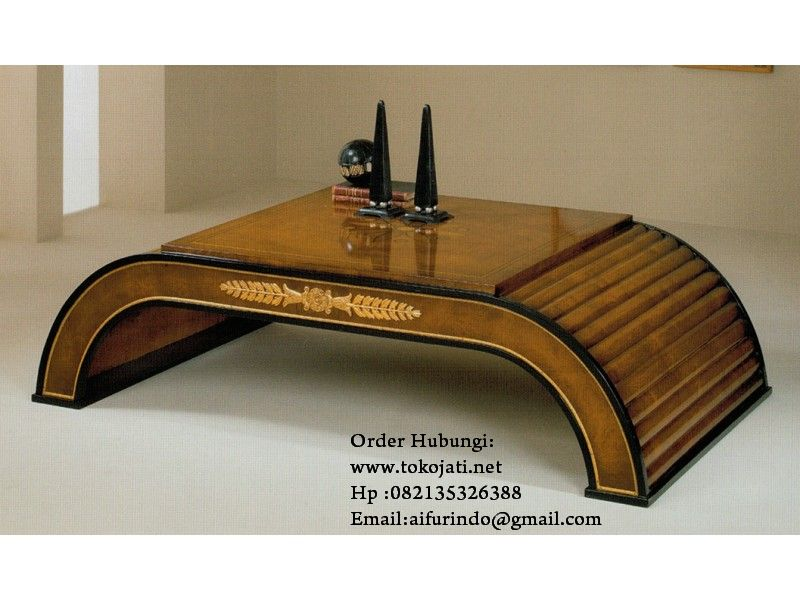Carving Table: (74, 174, 784, 498)
